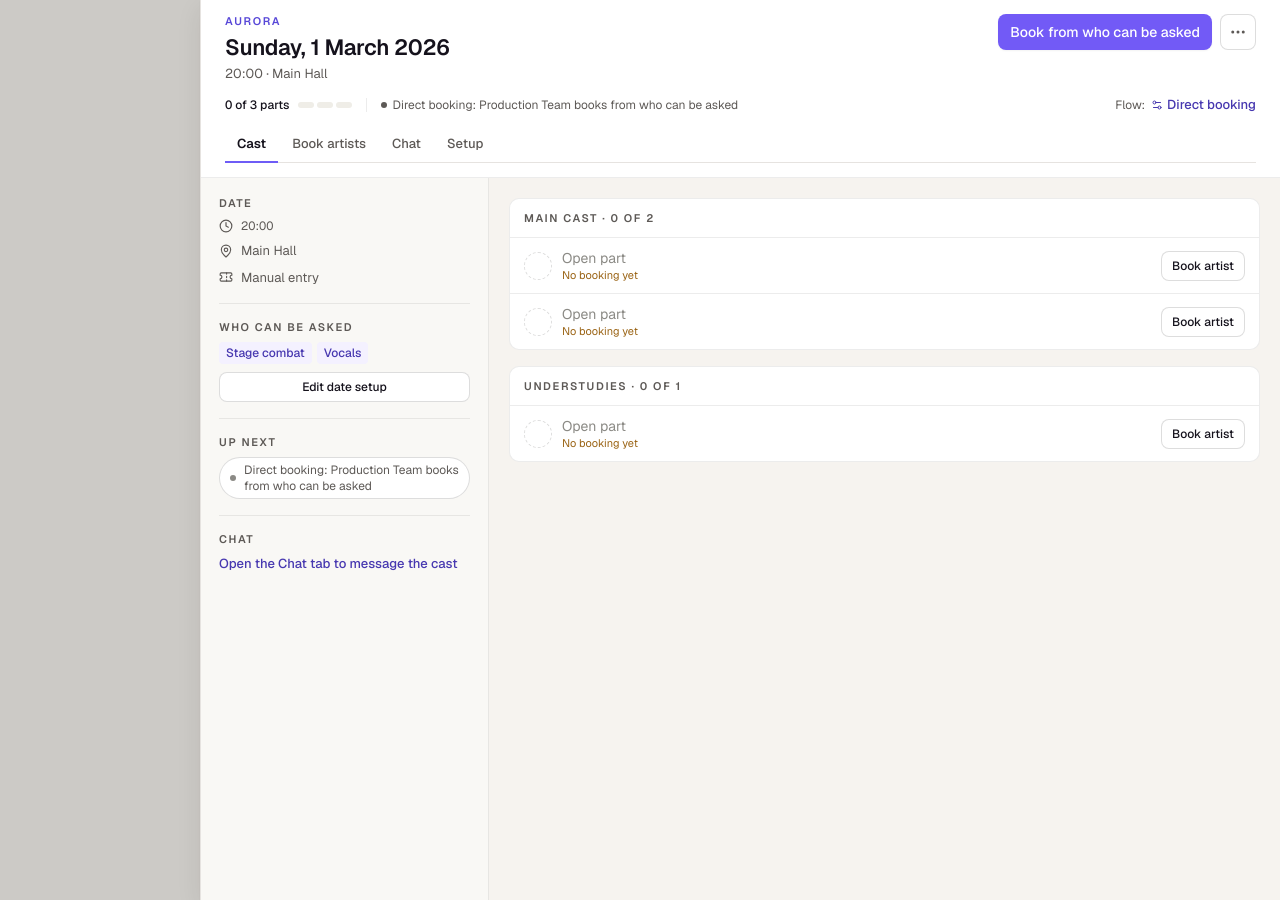
ShowDateDetailSheet direct-book wiring (design 1h) › renders the requirement-as-fact sentence with the real qualifying/total counts
Step 1. Click the button "Book artists" → (329, 145), box [280,127,378,163]
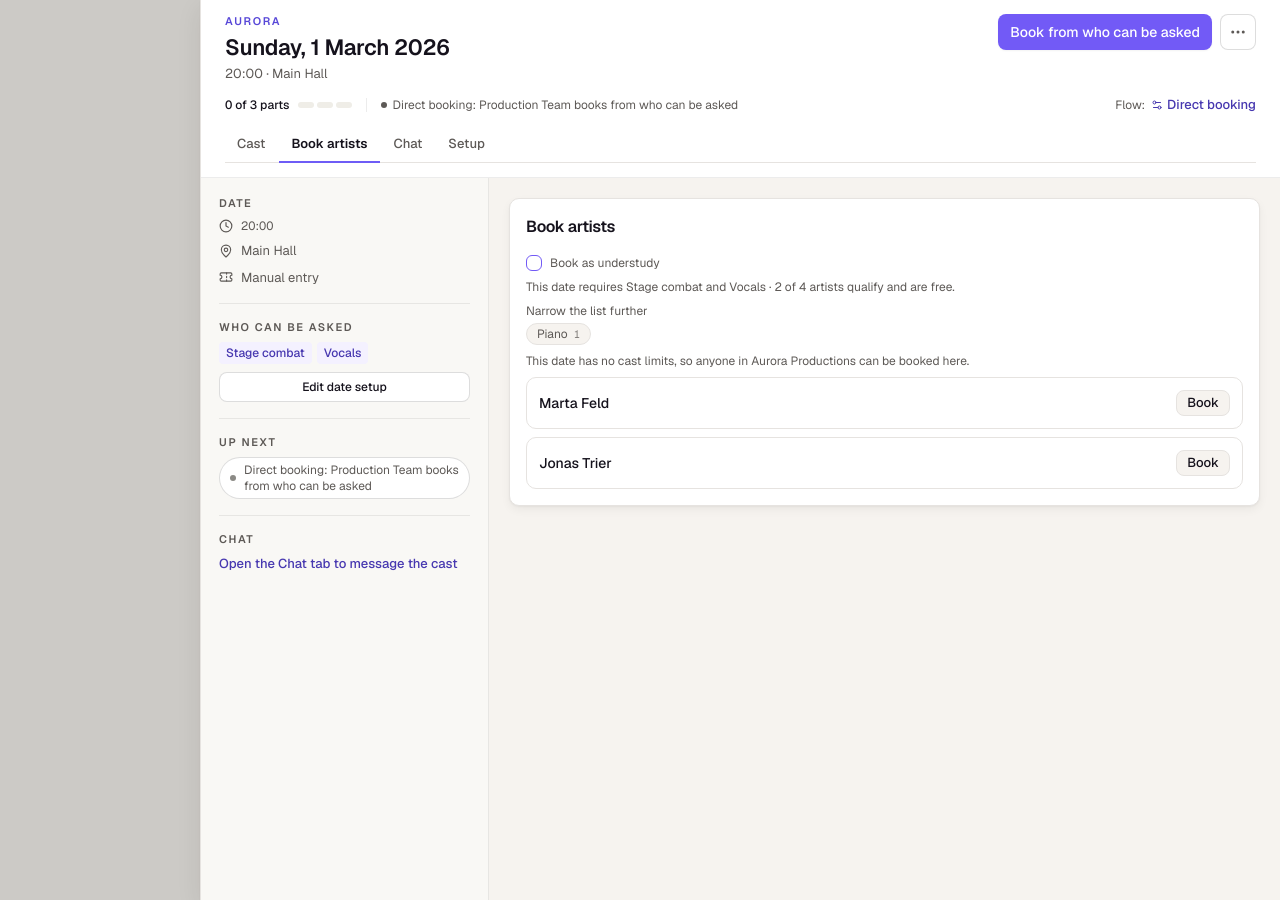
Result: the text "This date requires Stage combat and Vocals · 2 of 4 artists qualify and are free." is shown at [526,279,955,295]
